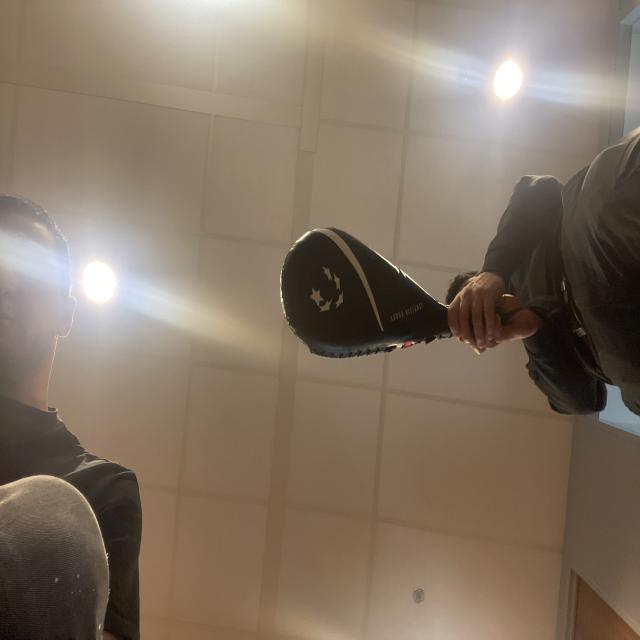paddle: (285, 235, 405, 344)
